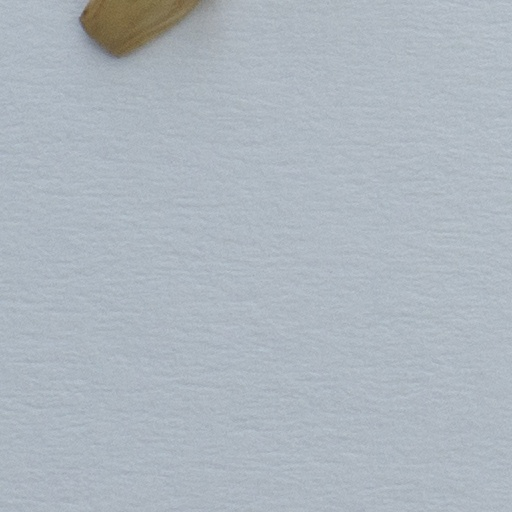Peel-poly: (77, 0, 204, 54)
